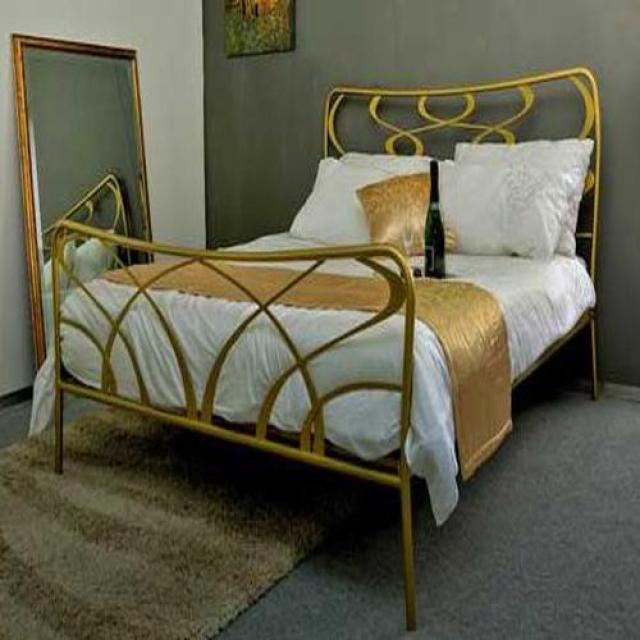bed: (52, 68, 599, 526)
